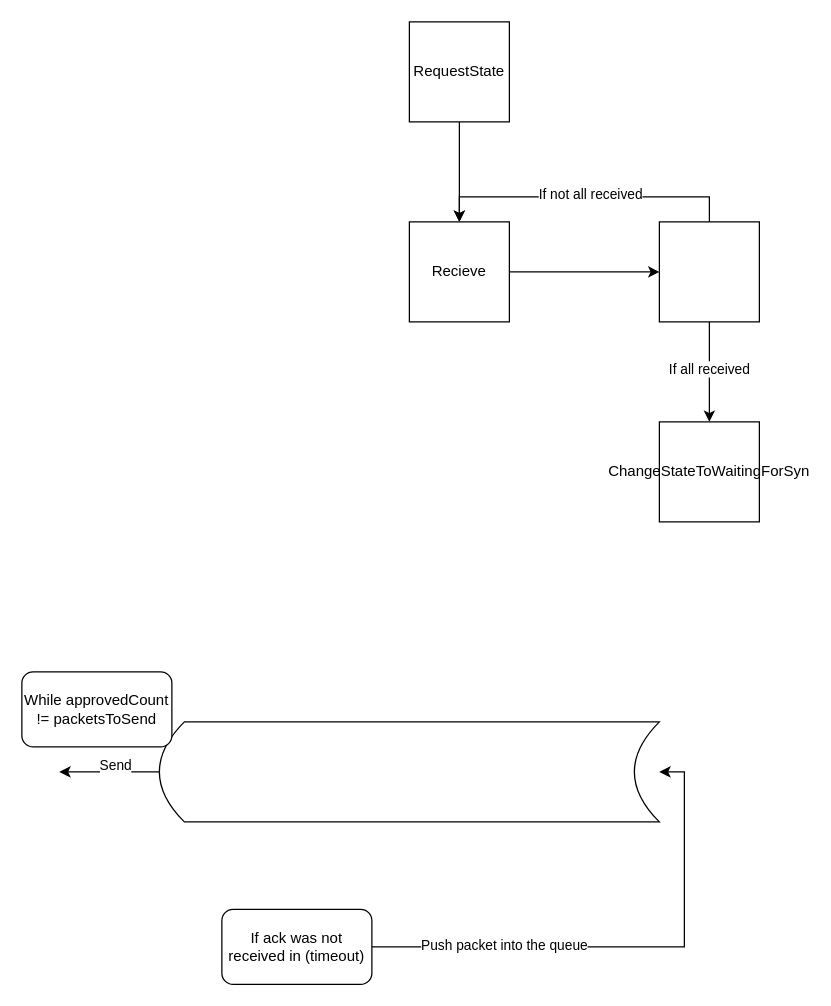
Some shapes in this 831 by 1006 pixel diagram are drawn without their labels. Here are the shapes that lost their labels. From the top down, the centre of each, then its label:
pixel 708 271: SendAck
pixel 408 771: Packets to send
